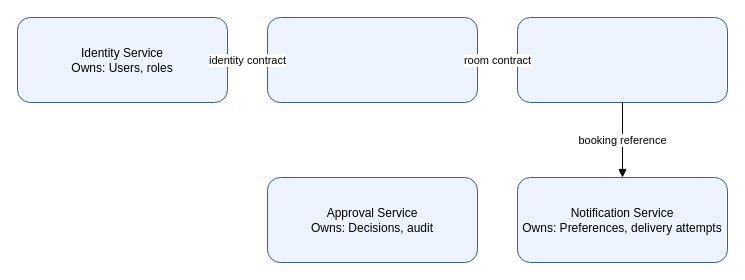
Some shapes in this 745 by 280 pixel diagram are drawn without their labels. Each missing label, with the centre of its shape:
"Booking Service Owns: Bookings, overlap rules" goes at point 622,59.
"Resource Catalogue Owns: Buildings, rooms, equipment" goes at point 372,59.
